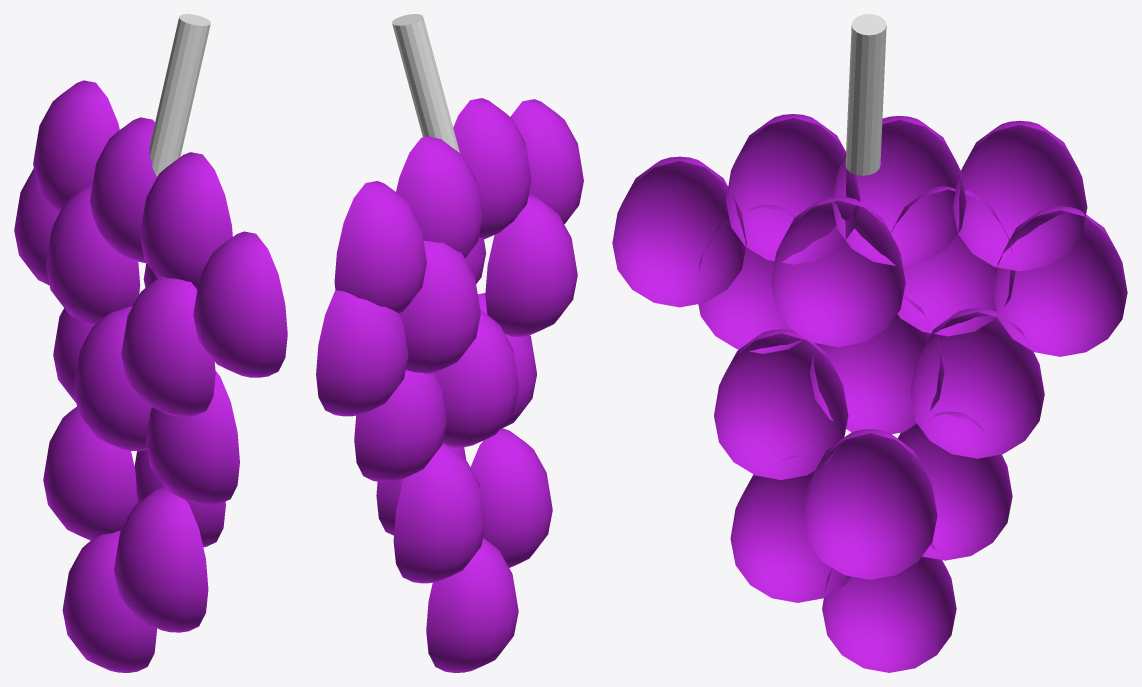
The model's file is grape.fbx.
The picture shows the model from 3 angles, left to right: view 1: azimuth 30°, elevation 25°; view 2: azimuth 150°, elevation 25°; view 3: azimuth 270°, elevation 25°; orthographic projection. The views are drawn at different scales.
Visible parts, largest first — view 1: Sphere, Cylinder; view 2: Sphere, Cylinder; view 3: Sphere, Cylinder.
Part boxes in pixels (x1,y1,x2,y2): Sphere: (14, 80, 287, 672); Cylinder: (149, 14, 210, 176); Sphere: (316, 98, 583, 672); Cylinder: (392, 14, 459, 152); Sphere: (612, 114, 1127, 672); Cylinder: (845, 14, 886, 175).
Bounding box in the file's own units: 4.21 × 19.93 × 13.63.
